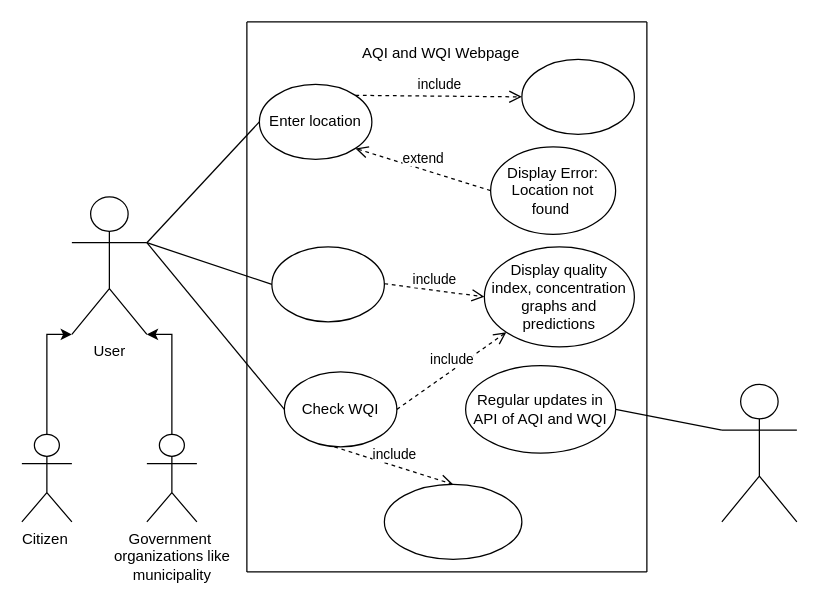
Some shapes in this 838 by 606 pixel diagram are drawn without their labels. Here are the shapes that lost their labels. From the top down, the box of each, then its label:
(521, 58, 634, 134): Verify location from API
(271, 246, 384, 322): Check AQI
(721, 383, 797, 522): Central Pollution Control Board
(383, 483, 522, 559): Enter concentrations of compounds manually
